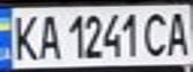1: (118, 9, 142, 58), (63, 11, 84, 60)
2: (81, 10, 106, 60)
4: (103, 9, 124, 58)
A: (33, 10, 63, 61), (163, 7, 193, 57)
C: (139, 8, 172, 59)
K: (6, 10, 42, 62)
